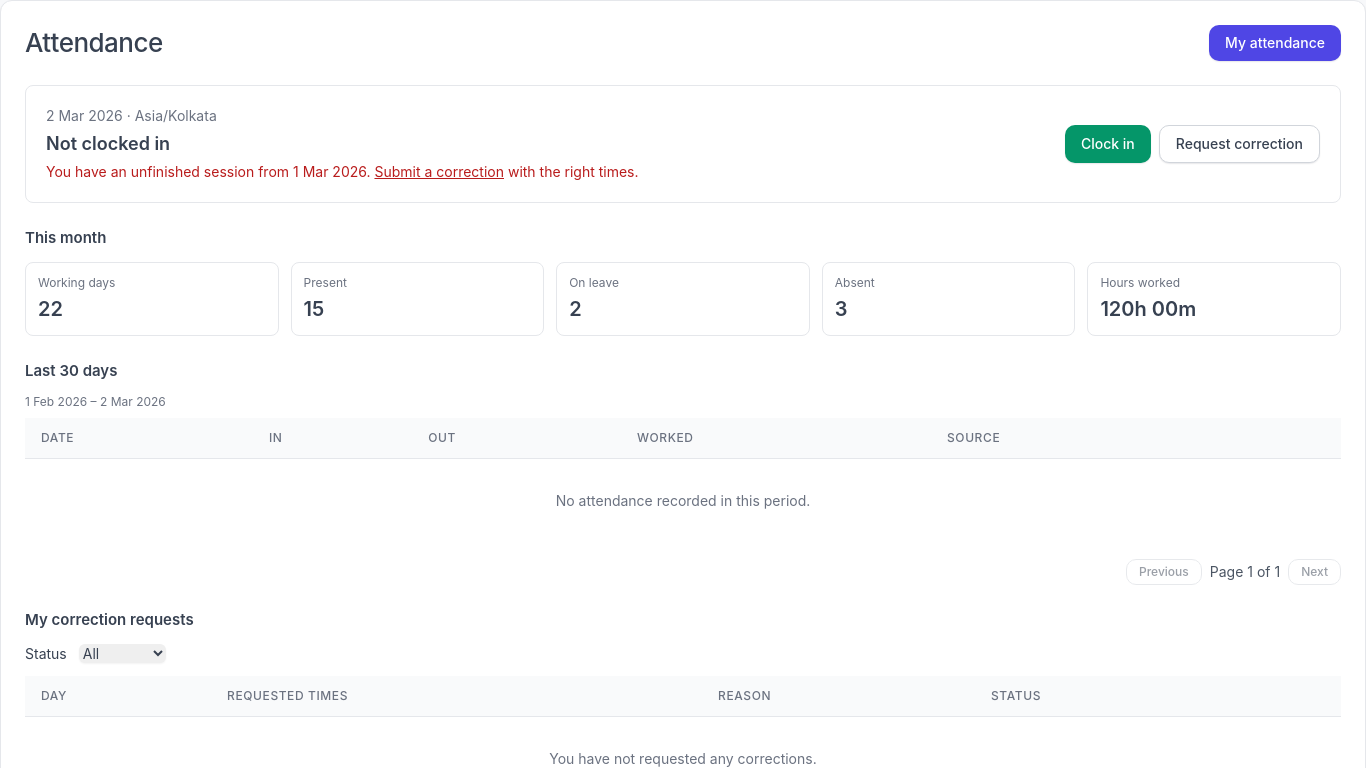
Test: Attendance page › clocking › warns about an unfinished session from an earlier day and opens the correction form for it
The image size is (1366, 768).
Expected: the message shows "unfinished session from 1 Mar 2026", [46,162,638,182]
Click the button "Submit a correction" at (439, 172), box [374,162,504,182]
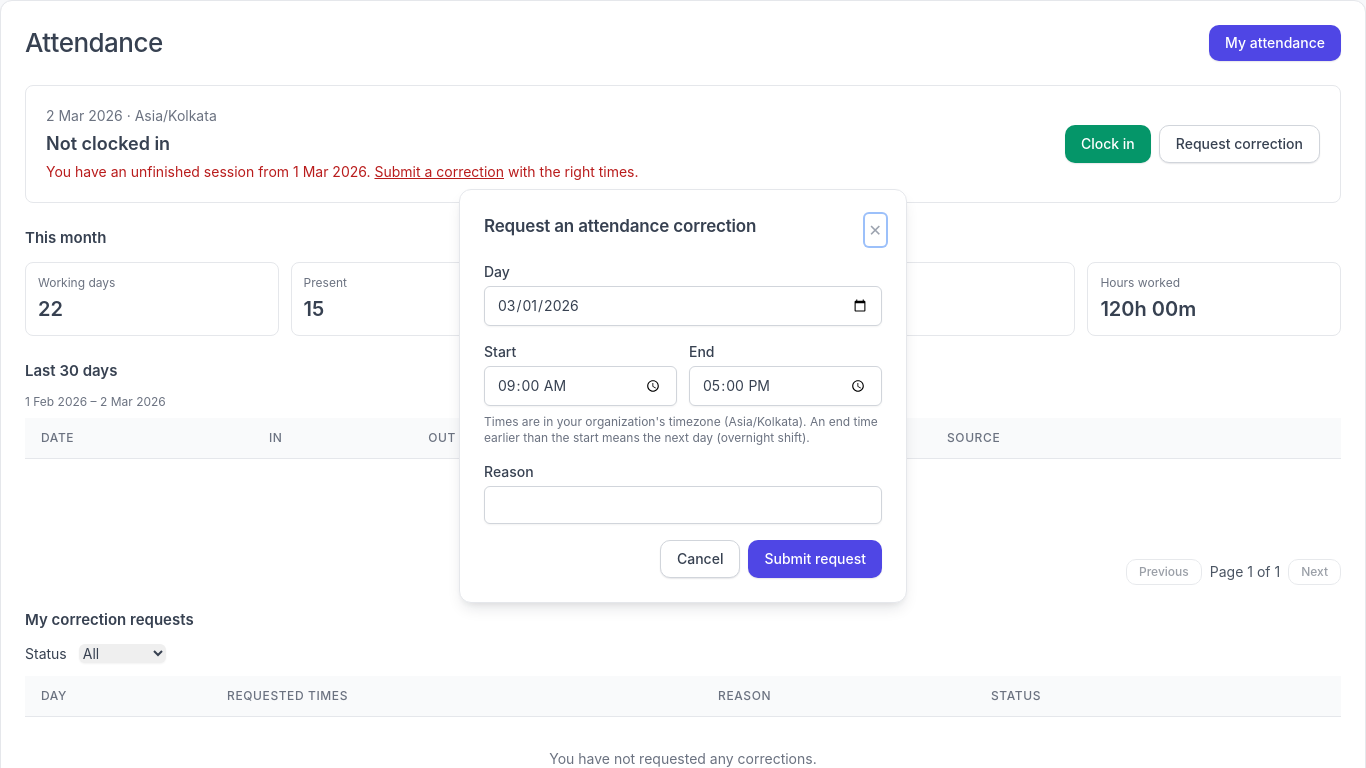
Now the date field labelled "Day" holds "2026-03-01", box [484,286,882,326]
